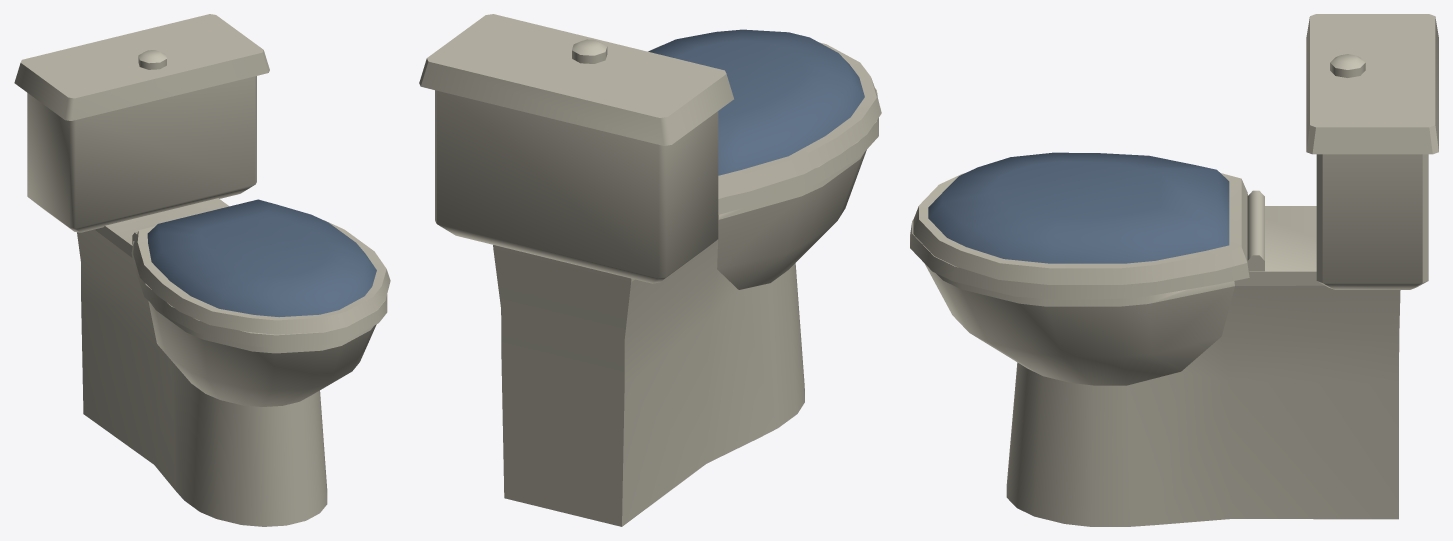
Rendered from Toilet_01.fbx.
3 views of the same model, side by side, from view 1: azimuth 30°, elevation 25°; view 2: azimuth 150°, elevation 25°; view 3: azimuth 270°, elevation 25° (orthographic). The views are drawn at different scales.
Parts seen in each view (by area): view 1: Toilet_01, Toilet_01_Lid_Top, Toilet_01_Lid_Bottom; view 2: Toilet_01, Toilet_01_Lid_Top, Toilet_01_Lid_Bottom; view 3: Toilet_01, Toilet_01_Lid_Top, Toilet_01_Lid_Bottom.
Part boxes in pixels (x1,y1,x2,y2): Toilet_01: (14,14,376,526); Toilet_01_Lid_Top: (133,199,390,334); Toilet_01_Lid_Bottom: (131,241,387,348); Toilet_01: (419,14,866,526); Toilet_01_Lid_Top: (648,29,881,198); Toilet_01_Lid_Bottom: (718,88,878,214); Toilet_01: (925,14,1438,526); Toilet_01_Lid_Top: (913,152,1247,284); Toilet_01_Lid_Bottom: (910,192,1249,300).
Bounding box in the file's own units: 0.4809 × 0.8174 × 0.9041.
